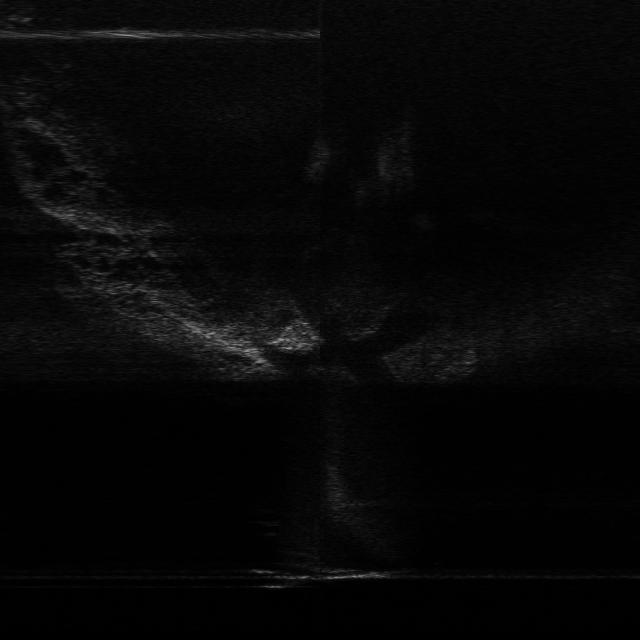plane: (244, 561, 418, 590)
